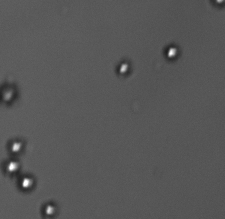Living Cell: (2, 155, 23, 177), (163, 42, 183, 62), (18, 173, 37, 193), (1, 83, 17, 105), (40, 199, 60, 216), (116, 58, 133, 77), (8, 138, 26, 154), (209, 1, 225, 8)
